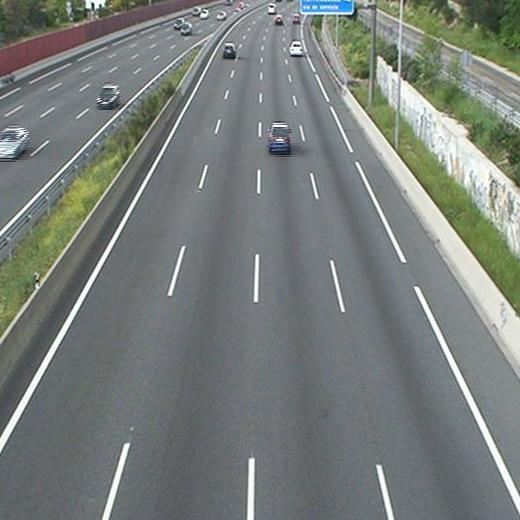car: (269, 124, 291, 150), (289, 41, 303, 55), (223, 44, 237, 57), (291, 13, 300, 24), (274, 15, 283, 24), (268, 3, 276, 13)
